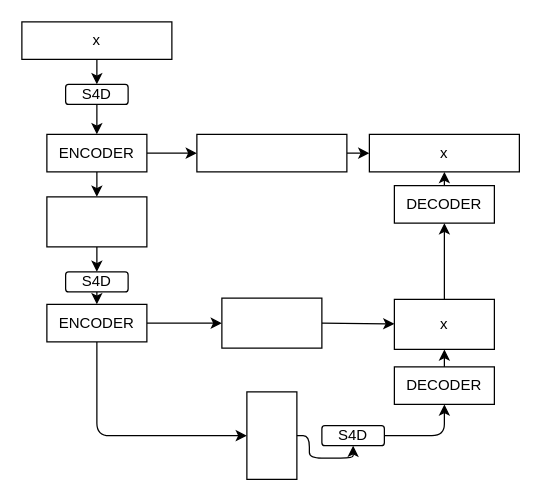
This 541x501 diagram has some shape labels left out. Each missing label, with the box of its shape:
Skip1: (196, 133, 347, 172)
Skip2: (221, 297, 322, 348)
x1: (46, 196, 147, 247)
x2: (246, 391, 297, 479)
